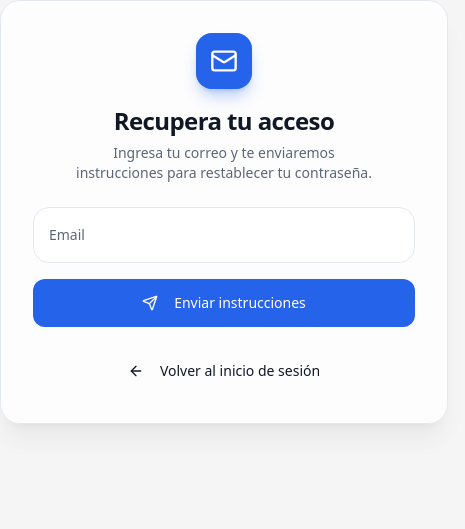
Test: Recupera tu acceso (/forgot-password) › sin clínica identificable no llama al backend y explica qué hacer
The image size is (465, 529).
Type "admin@clinica.test" into the field labelled "Email". click: [224, 235]
box: [33, 207, 415, 263]
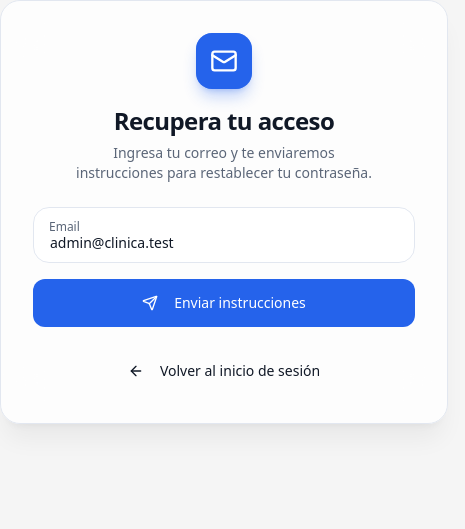
Click the button "Enviar instrucciones". click: [224, 303]
box: [33, 279, 415, 327]
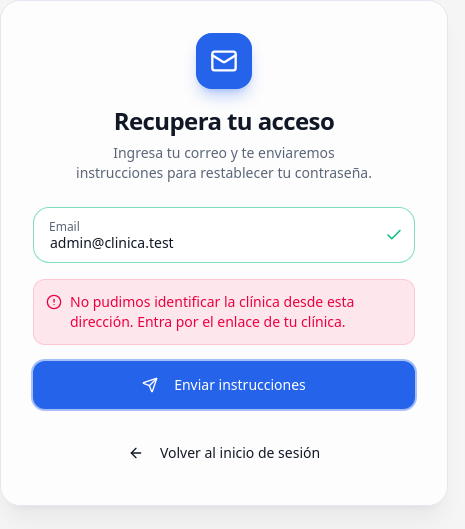
Now the message shows "No pudimos identificar la clínica desde esta dirección. Entra por el enlace de tu clínica.", box [70, 292, 354, 331]
